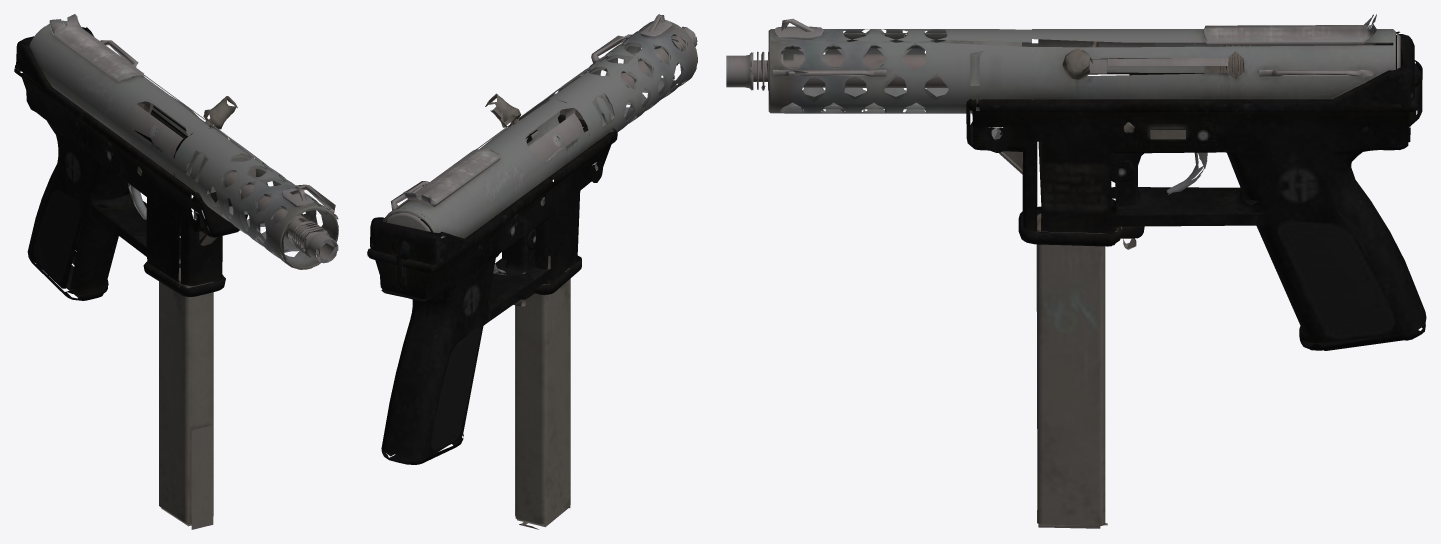
Rendered from g_tec9_lo.glb.
3 renders of one model, left to right at view 1: azimuth 30°, elevation 25°; view 2: azimuth 150°, elevation 25°; view 3: azimuth 270°, elevation 25°, orthographic. The views are drawn at different scales.
Parts seen in each view (by area): view 1: merged; view 2: merged; view 3: merged.
Part boxes in pixels (x1,y1,x2,y2): merged: [14, 14, 338, 529]; merged: [367, 14, 697, 529]; merged: [726, 14, 1426, 528].
Size of the model in its own units: 2.07 by 9.3 by 11.68.
Materials: 4 (4 with a texture image).
